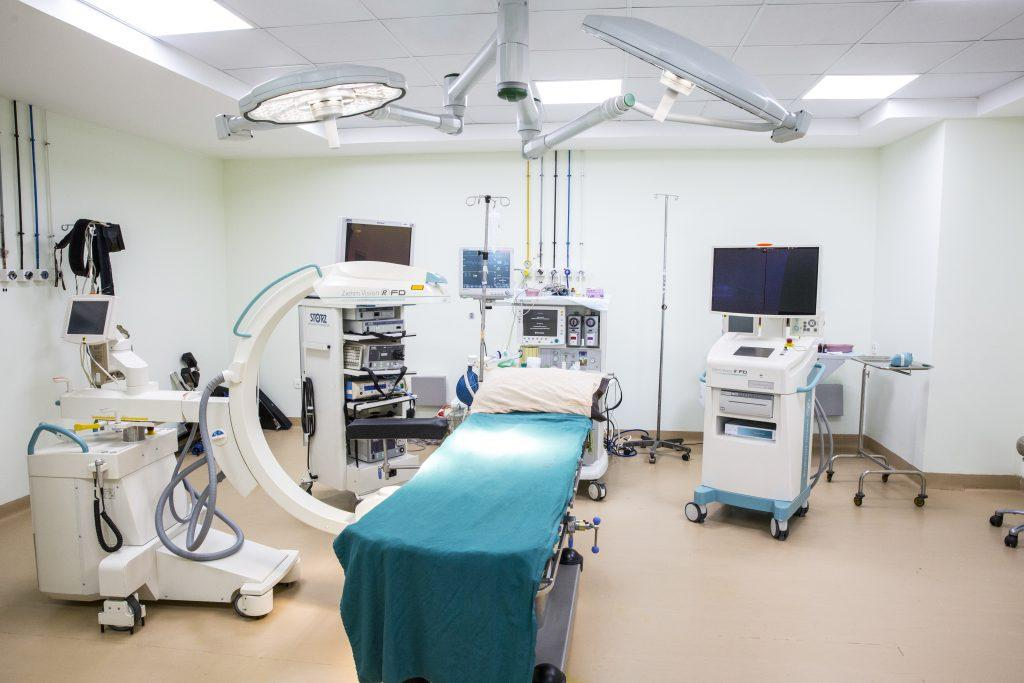Monitor: (699, 233, 833, 387), (329, 191, 422, 288), (449, 236, 518, 306), (51, 290, 126, 353)
Saline Stand: (625, 178, 698, 500)
bed: (326, 354, 622, 681)
tools_table: (841, 339, 928, 512)
